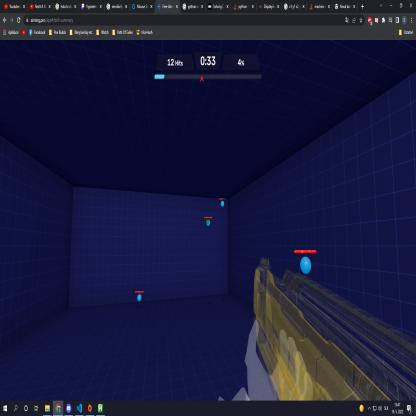sphere: (300, 256, 312, 275), (137, 294, 142, 302), (206, 219, 211, 226), (221, 201, 224, 207)
